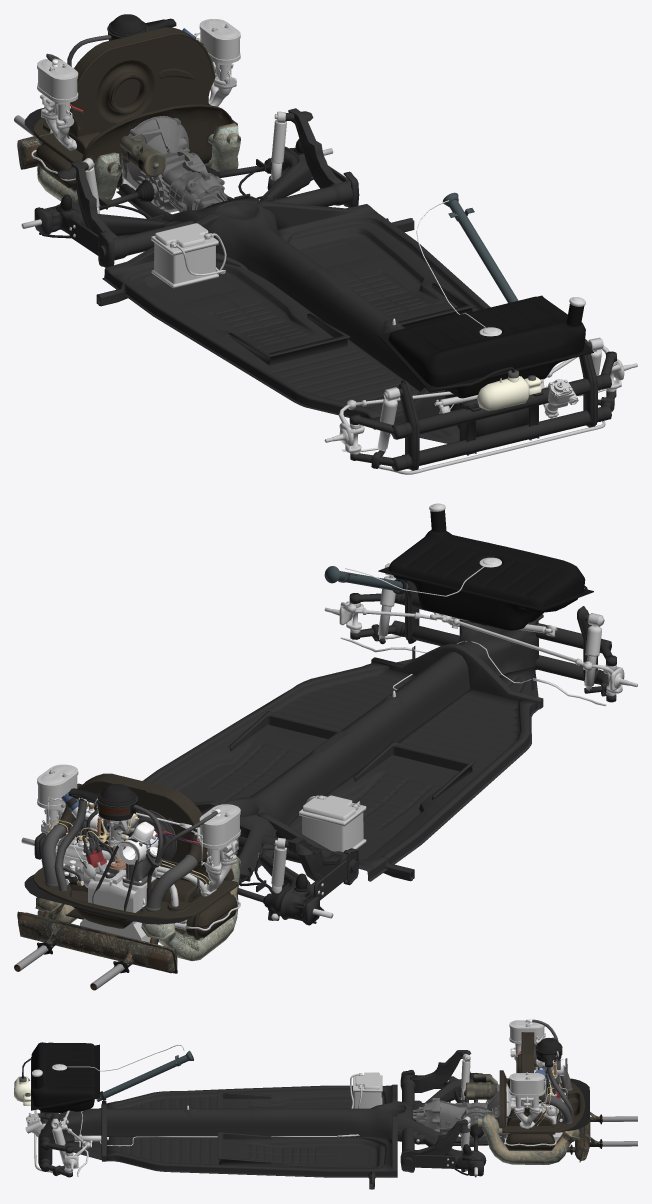
File: Bug.Chassis.dae
3 views of the same model, one above another, from view 1: azimuth 30°, elevation 25°; view 2: azimuth 150°, elevation 25°; view 3: azimuth 270°, elevation 25° (orthographic). The views are drawn at different scales.
Parts seen in each view (by area): view 1: frame, fueltank, engine_fan_housing, front_axle_frame, axle_R_frame, transaxle, engine_cover, axle_R_arm, battery, engine_heat_exchanger, engine_dualcarburetor_filter, front_tanks (+13 smaller); view 2: frame, fueltank, exhaust_single, engine_fan_housing, front_axle_frame, axle_R_arm, battery, engine_dualcarburetor_filter, engine_heat_exchanger, engine_cover, engine_cover_front, axle_R_frame (+15 smaller); view 3: frame, fueltank, axle_R_frame, axle_R_arm, engine_heat_exchanger, transaxle, engine_cover, engine_dualcarburetor_filter, battery, exhaust_single, engine_valve_cap, steering_tube (+18 smaller).
Boxes of the visible parts, x1,y1,x2,y2 form: frame: (96, 184, 538, 443); fueltank: (378, 295, 593, 398); engine_fan_housing: (70, 27, 215, 129); front_axle_frame: (391, 339, 611, 471); axle_R_frame: (57, 108, 359, 267); transaxle: (121, 116, 227, 212); engine_cover: (24, 98, 237, 187); axle_R_arm: (21, 139, 349, 255); battery: (151, 223, 218, 288); engine_heat_exchanger: (36, 123, 240, 204); engine_dualcarburetor_filter: (37, 19, 240, 103); front_tanks: (431, 367, 541, 410); frame: (143, 620, 543, 881); fueltank: (378, 510, 593, 630); exhaust_single: (17, 911, 177, 990); engine_fan_housing: (58, 773, 207, 875); front_axle_frame: (391, 581, 611, 686); axle_R_arm: (21, 832, 355, 925); battery: (299, 795, 366, 852); engine_dualcarburetor_filter: (37, 764, 240, 848); engine_heat_exchanger: (35, 857, 240, 960); engine_cover: (24, 867, 237, 934); engine_cover_front: (33, 870, 201, 928); axle_R_frame: (77, 783, 359, 885); frame: (44, 1084, 504, 1189); fueltank: (31, 1042, 99, 1112); axle_R_frame: (400, 1050, 471, 1172); axle_R_arm: (409, 1071, 486, 1176); engine_heat_exchanger: (478, 1077, 579, 1164); transaxle: (413, 1083, 506, 1137); engine_cover: (499, 1070, 589, 1135); engine_dualcarburetor_filter: (509, 1019, 544, 1096); battery: (353, 1072, 382, 1108); exhaust_single: (567, 1112, 637, 1162); engine_valve_cap: (505, 1133, 555, 1150); steering_tube: (96, 1050, 193, 1101).
Size of the model in its own units: 1.42 by 3.68 by 0.7191.
